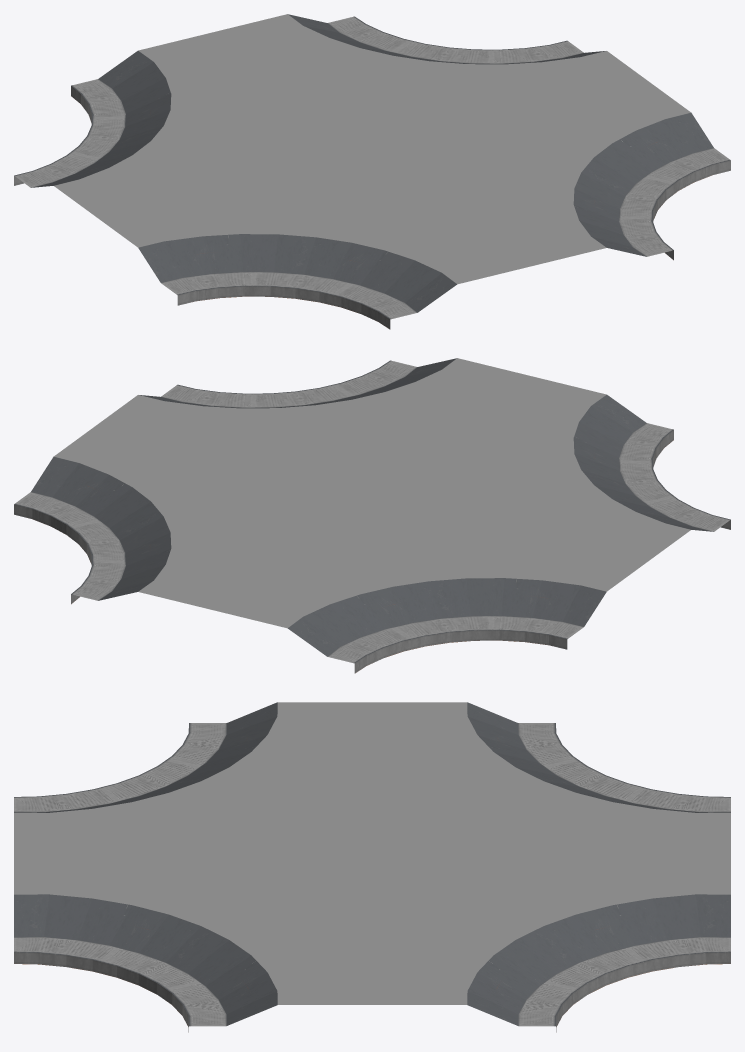
The model's file is roof_x.FBX.
3 renders of one model, top to bottom at view 1: azimuth 30°, elevation 25°; view 2: azimuth 150°, elevation 25°; view 3: azimuth 270°, elevation 25°, orthographic. The views are drawn at different scales.
Parts seen in each view (by area): view 1: Plane004; view 2: Plane004; view 3: Plane004.
Boxes of the visible parts, <box> form: Plane004: <box>14,14,730,329</box>; Plane004: <box>14,358,730,673</box>; Plane004: <box>14,702,730,1032</box>.
Bounding box in the file's own units: 780 × 39.18 × 780.
2 materials, 1 textured.
